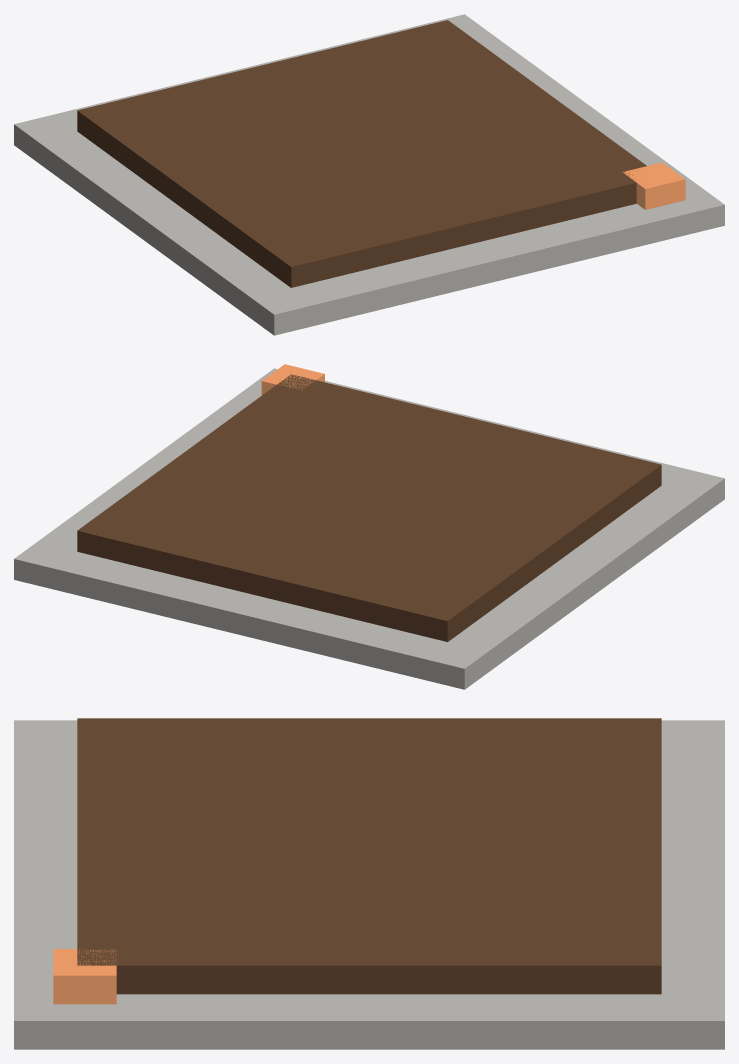
File: build_pressure_plate.glb
3 renders of one model, top to bottom at view 1: azimuth 30°, elevation 25°; view 2: azimuth 150°, elevation 25°; view 3: azimuth 270°, elevation 25°, orthographic. The views are drawn at different scales.
Visible parts, largest first — view 1: _MeshInstance3D_413, Baked; view 2: _MeshInstance3D_413, Baked; view 3: _MeshInstance3D_413, Baked.
Part boxes in pixels (<box>): _MeshInstance3D_413: <box>77,20,646,287</box>; Baked: <box>14,14,724,335</box>; _MeshInstance3D_413: <box>77,374,661,641</box>; Baked: <box>14,364,724,689</box>; _MeshInstance3D_413: <box>77,718,661,994</box>; Baked: <box>14,720,724,1049</box>.
Bounding box in the file's own units: 0.9 × 0.08 × 0.9.
